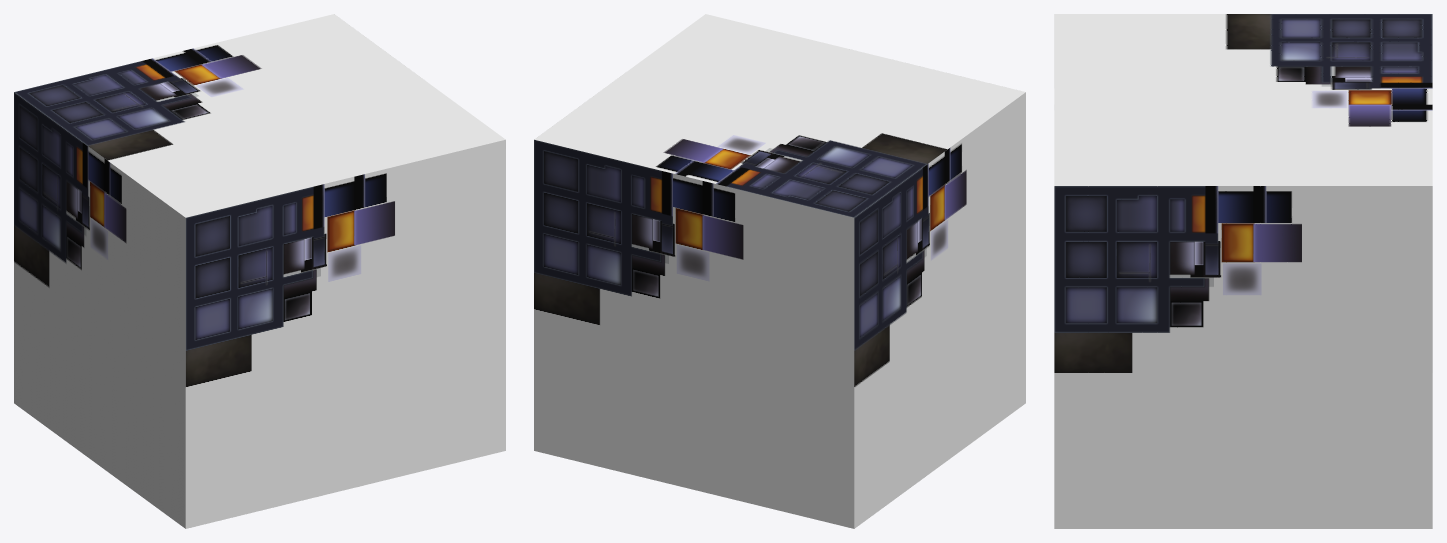
The model's file is town_house_60m_lights.DAE.
3 views of the same model, side by side, from view 1: azimuth 30°, elevation 25°; view 2: azimuth 150°, elevation 25°; view 3: azimuth 270°, elevation 25° (orthographic). The views are drawn at different scales.
Visible parts, largest first — view 1: Box02; view 2: Box02; view 3: Box02.
Part boxes in pixels (left/top/right/bottom): Box02: left=14, top=14, right=505, bottom=528; Box02: left=534, top=14, right=1025, bottom=528; Box02: left=1054, top=14, right=1432, bottom=528.
Size of the model in its own units: 1.88 by 1.75 by 1.75.
